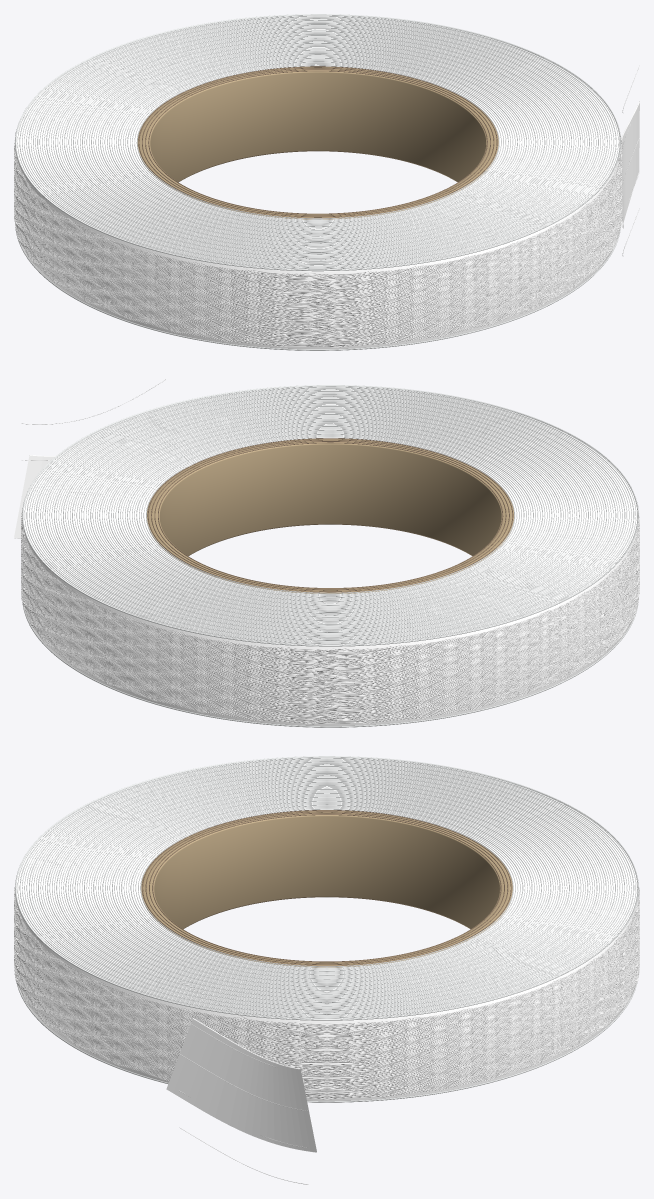
Rendered from product-36-strip-tape.glb.
3 views of the same model, one above another, from view 1: azimuth 30°, elevation 25°; view 2: azimuth 150°, elevation 25°; view 3: azimuth 270°, elevation 25° (orthographic). The views are drawn at different scales.
Parts seen in each view (by area): view 1: Wound reinforced tape body, Visible winding layer -1 00, Embedded mesh A00, Laminated kraft paper core, Core laminate edge; view 2: Wound reinforced tape body, Visible winding layer -1 00, Embedded mesh A00, Laminated kraft paper core, Core laminate edge; view 3: Wound reinforced tape body, Visible winding layer -1 00, Embedded mesh A00, Laminated kraft paper core, Core laminate edge.
Part boxes in pixels (<box>): Wound reinforced tape body: <box>16,15,639,349</box>; Visible winding layer -1 00: <box>15,14,621,350</box>; Embedded mesh A00: <box>14,65,639,347</box>; Laminated kraft paper core: <box>137,67,498,219</box>; Core laminate edge: <box>138,66,497,218</box>; Wound reinforced tape body: <box>14,386,637,726</box>; Visible winding layer -1 00: <box>22,385,638,727</box>; Embedded mesh A00: <box>21,379,639,724</box>; Laminated kraft paper core: <box>147,439,514,593</box>; Core laminate edge: <box>147,438,513,592</box>; Wound reinforced tape body: <box>16,757,637,1152</box>; Visible winding layer -1 00: <box>15,756,638,1102</box>; Embedded mesh A00: <box>14,886,639,1184</box>; Laminated kraft paper core: <box>141,810,512,967</box>; Core laminate edge: <box>142,810,511,966</box>.
Bounding box in the file's own units: 153 × 41.6 × 139.
